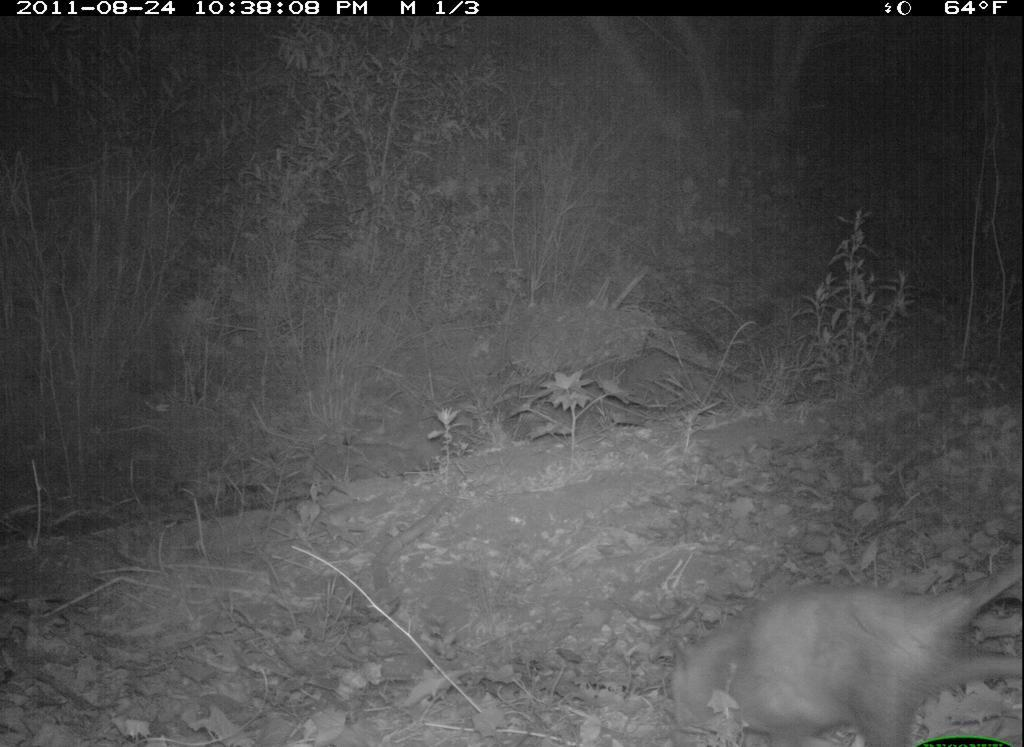opossum: (666, 537, 1022, 745)
